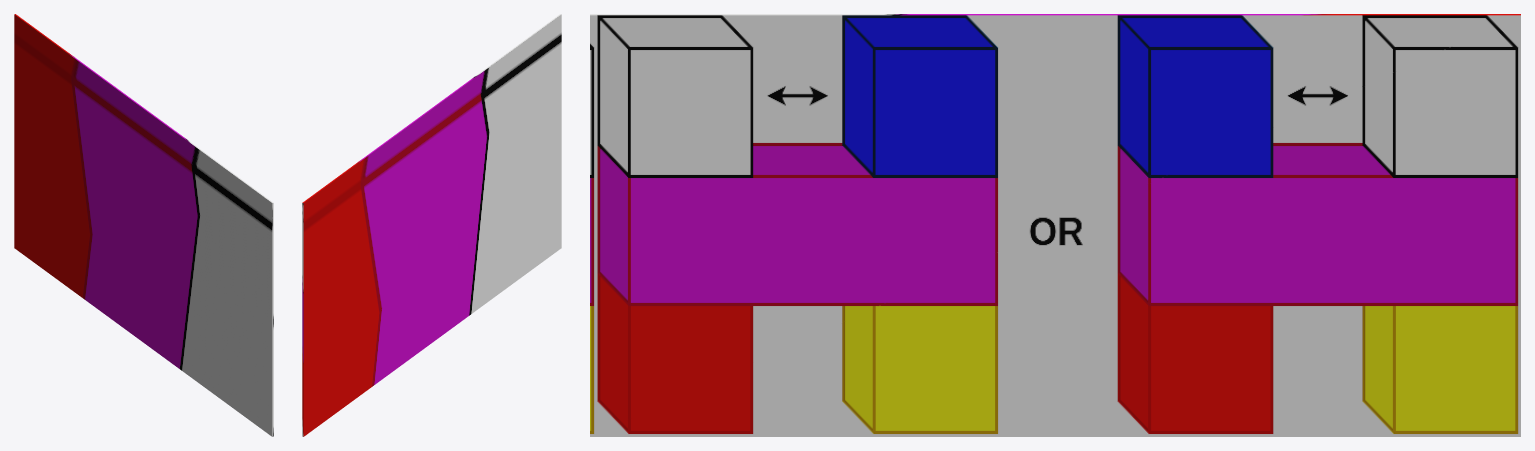
The model's file is new_goal.dae.
3 renders of one model, left to right at view 1: azimuth 30°, elevation 25°; view 2: azimuth 150°, elevation 25°; view 3: azimuth 270°, elevation 25°, orthographic. The views are drawn at different scales.
Visible parts, largest first — view 1: Cube; view 2: Cube; view 3: Cube.
Part boxes in pixels (x1,y1,x2,y2): Cube: [14, 14, 273, 436]; Cube: [302, 14, 561, 436]; Cube: [590, 14, 1520, 436].
Size of the model in its own units: 0.0119 by 4 by 2.
1 material, 1 textured.
